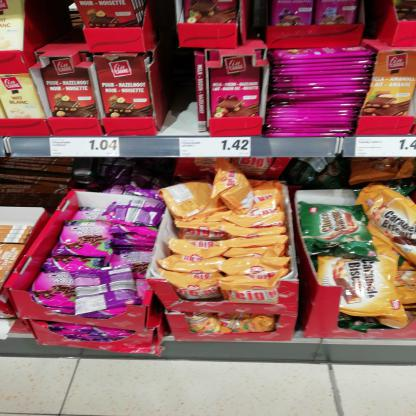prtg: (180, 138, 252, 158), (50, 139, 121, 158), (356, 138, 416, 159)
